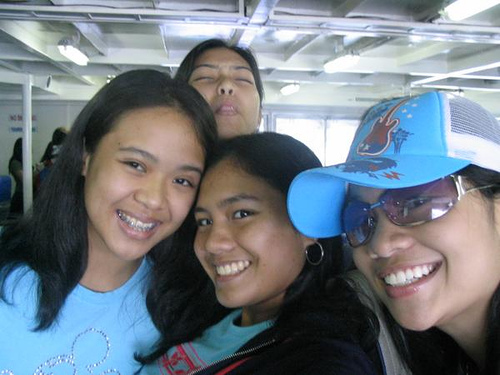without_mask: (344, 157, 500, 335), (78, 94, 204, 262), (197, 160, 317, 310), (183, 44, 268, 142)
